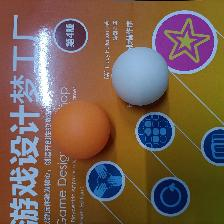WhiteBall: (111, 47, 168, 105)
YellowBall: (50, 99, 110, 159)
